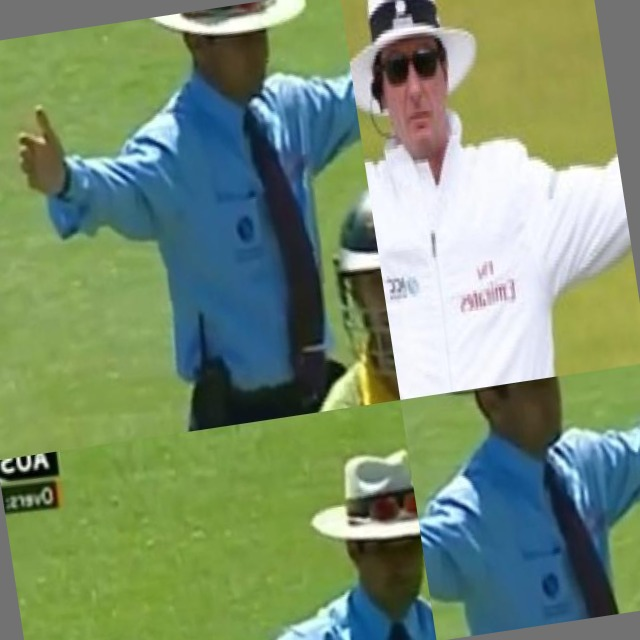No_Ball: (45, 424, 437, 640)
Wide: (0, 0, 381, 321), (339, 0, 640, 400), (400, 363, 640, 640)
